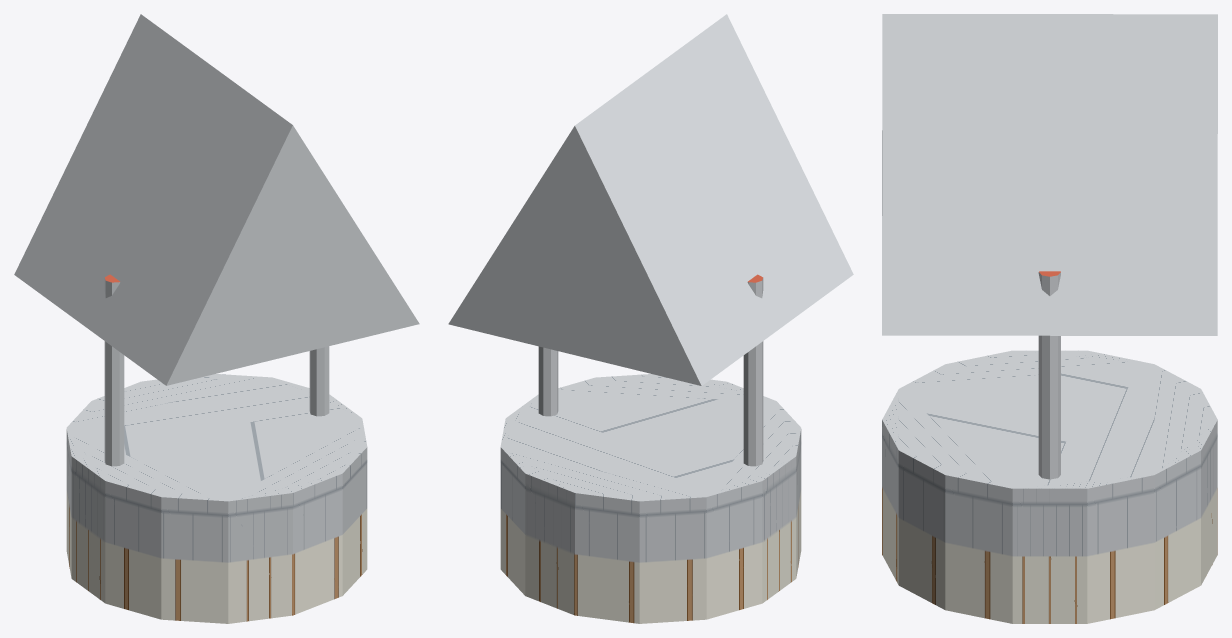
File: WaterWell.glb
3 renders of one model, left to right at view 1: azimuth 30°, elevation 25°; view 2: azimuth 150°, elevation 25°; view 3: azimuth 270°, elevation 25°, orthographic. The views are drawn at different scales.
Visible parts, largest first — view 1: WaterWell; view 2: WaterWell; view 3: WaterWell.
Part boxes in pixels (bbox=[...]): WaterWell: bbox=[14, 14, 419, 623]; WaterWell: bbox=[448, 14, 853, 623]; WaterWell: bbox=[882, 14, 1217, 623].
Size of the model in its own units: 1.75 by 3.2 by 1.8.
2 materials, 2 textured.
